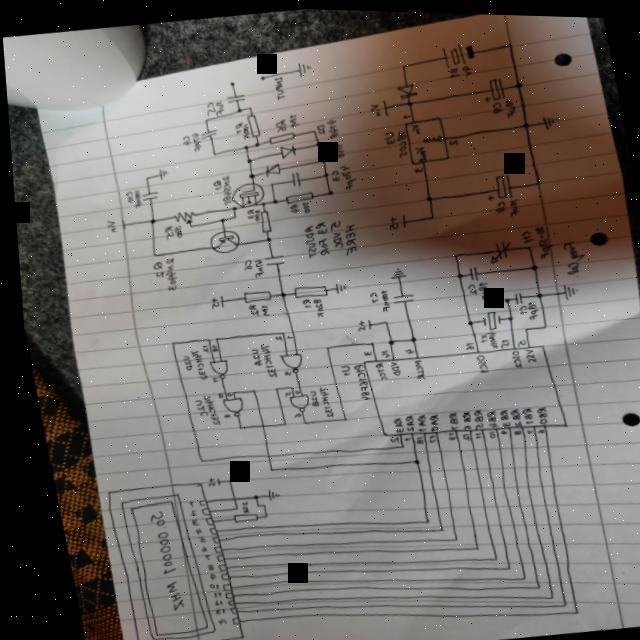capacitor: (478, 170, 510, 200), (482, 234, 511, 261), (477, 73, 504, 101), (385, 289, 411, 303), (258, 252, 282, 265), (285, 169, 299, 187), (222, 91, 244, 102), (138, 188, 156, 201), (196, 127, 215, 139), (461, 263, 476, 278), (508, 289, 517, 301)
crossover: (250, 420, 260, 427), (258, 452, 264, 457), (222, 496, 228, 501)
diode: (392, 80, 417, 98), (258, 160, 279, 176), (275, 142, 294, 158)
ground: (556, 278, 575, 297), (294, 58, 311, 76), (538, 111, 557, 127), (257, 485, 273, 501), (383, 264, 401, 276), (328, 279, 344, 292), (152, 166, 166, 179)
junction: (510, 77, 522, 87), (379, 335, 390, 344), (518, 118, 528, 126), (242, 491, 251, 499), (420, 192, 430, 199), (459, 316, 469, 323), (243, 171, 253, 178), (413, 515, 423, 522), (561, 605, 571, 612), (143, 216, 153, 223), (524, 261, 533, 268), (402, 333, 411, 340), (450, 269, 459, 276), (529, 288, 538, 295), (530, 177, 539, 184), (503, 38, 512, 45), (446, 249, 455, 256), (462, 542, 471, 549), (496, 294, 505, 301), (272, 289, 281, 296), (520, 240, 529, 247), (404, 456, 412, 463), (397, 61, 405, 67), (214, 216, 222, 222), (228, 423, 236, 429), (189, 456, 197, 462), (403, 98, 411, 104), (551, 599, 559, 605), (376, 317, 383, 323), (259, 465, 266, 471), (495, 562, 502, 568), (268, 197, 274, 203), (483, 553, 489, 559), (260, 235, 267, 240), (146, 252, 153, 257), (535, 321, 542, 326), (250, 140, 257, 145), (242, 157, 249, 162), (538, 591, 545, 596), (429, 524, 436, 529), (425, 213, 431, 218), (208, 150, 214, 155), (218, 477, 224, 482), (317, 343, 323, 348), (140, 174, 146, 179), (444, 534, 450, 539), (227, 205, 233, 210), (323, 188, 329, 193), (200, 117, 206, 122), (312, 140, 318, 145), (317, 156, 323, 161), (319, 170, 325, 175), (256, 200, 262, 205), (501, 313, 507, 318), (363, 339, 369, 344), (525, 581, 531, 586), (511, 572, 517, 577), (164, 339, 169, 344), (240, 143, 245, 148), (234, 106, 239, 111), (392, 442, 397, 447), (225, 504, 230, 509), (254, 512, 259, 517), (200, 337, 205, 341), (274, 329, 279, 333), (275, 420, 279, 424), (336, 415, 340, 419), (253, 502, 257, 506), (247, 502, 251, 506), (224, 389, 229, 392), (245, 387, 249, 390), (295, 419, 299, 422), (268, 386, 272, 389), (208, 335, 212, 338), (229, 214, 233, 217), (245, 105, 249, 108), (309, 128, 313, 131), (266, 181, 270, 184), (517, 324, 521, 327), (283, 384, 287, 387), (185, 224, 189, 226)
resistor: (286, 280, 324, 297), (235, 286, 267, 302), (280, 188, 311, 204), (167, 207, 194, 224), (265, 130, 293, 143), (223, 510, 250, 523), (253, 209, 268, 232), (244, 113, 258, 137)
source: (437, 38, 475, 66)
terminal: (378, 97, 387, 114), (395, 211, 404, 226), (213, 294, 220, 307), (255, 72, 265, 80), (116, 218, 122, 230), (225, 78, 234, 85), (360, 317, 366, 327), (207, 476, 212, 484)
text: (139, 509, 175, 611), (554, 236, 584, 276), (527, 220, 550, 257), (334, 221, 356, 254), (346, 361, 365, 398), (155, 256, 175, 290), (309, 218, 327, 254), (195, 393, 215, 425), (253, 341, 271, 376), (297, 222, 315, 256), (183, 347, 201, 379), (213, 173, 231, 205), (335, 162, 355, 189), (310, 383, 326, 416), (390, 127, 407, 156), (324, 218, 340, 247), (403, 354, 421, 379), (371, 287, 387, 310), (270, 74, 284, 99), (305, 295, 320, 317), (322, 116, 337, 138), (246, 256, 261, 277), (366, 360, 382, 379), (467, 351, 483, 370), (502, 195, 518, 214), (527, 403, 543, 422), (519, 297, 534, 317), (502, 347, 517, 366), (470, 278, 485, 297), (419, 410, 434, 429), (464, 406, 477, 427), (187, 130, 200, 151), (512, 403, 527, 421), (187, 397, 201, 416), (501, 95, 514, 115), (453, 407, 466, 427), (480, 327, 493, 347), (381, 357, 396, 374), (406, 412, 421, 429), (478, 407, 492, 425), (243, 346, 256, 365), (502, 405, 515, 424), (516, 344, 531, 360), (127, 188, 139, 208), (439, 409, 452, 427), (146, 259, 159, 277), (491, 406, 504, 424), (411, 143, 424, 161), (379, 128, 394, 143), (384, 415, 398, 431), (100, 217, 113, 234), (329, 140, 342, 157), (395, 412, 408, 429), (365, 100, 379, 115), (158, 224, 171, 240), (175, 353, 187, 370), (237, 121, 248, 139), (489, 197, 503, 211), (271, 117, 285, 131), (382, 214, 395, 229), (419, 132, 440, 141), (301, 388, 312, 405), (362, 289, 375, 303), (515, 226, 529, 239), (285, 111, 297, 126), (202, 100, 214, 115), (211, 99, 222, 115), (488, 98, 501, 111), (458, 62, 472, 74), (444, 64, 458, 76), (203, 295, 215, 308), (242, 302, 254, 315), (168, 223, 179, 237), (460, 280, 472, 292), (349, 317, 361, 329), (284, 200, 296, 212), (311, 121, 323, 132), (231, 120, 242, 132), (178, 133, 189, 145), (333, 362, 344, 374), (236, 258, 248, 269), (231, 499, 241, 512), (327, 167, 337, 180), (254, 303, 264, 316), (197, 475, 208, 486), (208, 178, 219, 189), (493, 335, 504, 346), (407, 121, 418, 132), (241, 206, 251, 218), (297, 199, 306, 212), (121, 190, 130, 203), (406, 432, 417, 442), (295, 296, 306, 306), (457, 338, 469, 347), (509, 335, 521, 344), (180, 517, 192, 526), (249, 207, 257, 220), (373, 347, 384, 356), (206, 616, 218, 624), (198, 581, 210, 589), (320, 143, 329, 153), (512, 302, 522, 311), (453, 429, 462, 439), (479, 427, 489, 436), (445, 136, 456, 144), (381, 433, 392, 441), (186, 534, 197, 542), (204, 606, 215, 614), (409, 164, 421, 171), (398, 110, 410, 117), (397, 345, 409, 352), (439, 428, 448, 437), (473, 330, 482, 339), (420, 431, 429, 440), (202, 589, 212, 597), (202, 598, 213, 605), (195, 343, 203, 352), (204, 342, 212, 351), (199, 571, 207, 580), (356, 347, 366, 354), (209, 390, 217, 398), (185, 526, 193, 534), (268, 333, 277, 340), (466, 429, 475, 436), (179, 498, 186, 507), (179, 508, 188, 515), (189, 544, 198, 551), (193, 552, 202, 559), (491, 426, 501, 432), (197, 562, 204, 570), (505, 426, 514, 432), (276, 368, 285, 374), (277, 388, 284, 395), (205, 374, 212, 381), (529, 424, 537, 430), (218, 390, 227, 395), (215, 412, 224, 417), (279, 333, 287, 338), (286, 410, 294, 415), (396, 433, 403, 438), (519, 425, 526, 430), (287, 388, 293, 393)
transistor: (199, 225, 239, 257), (225, 178, 263, 208)
